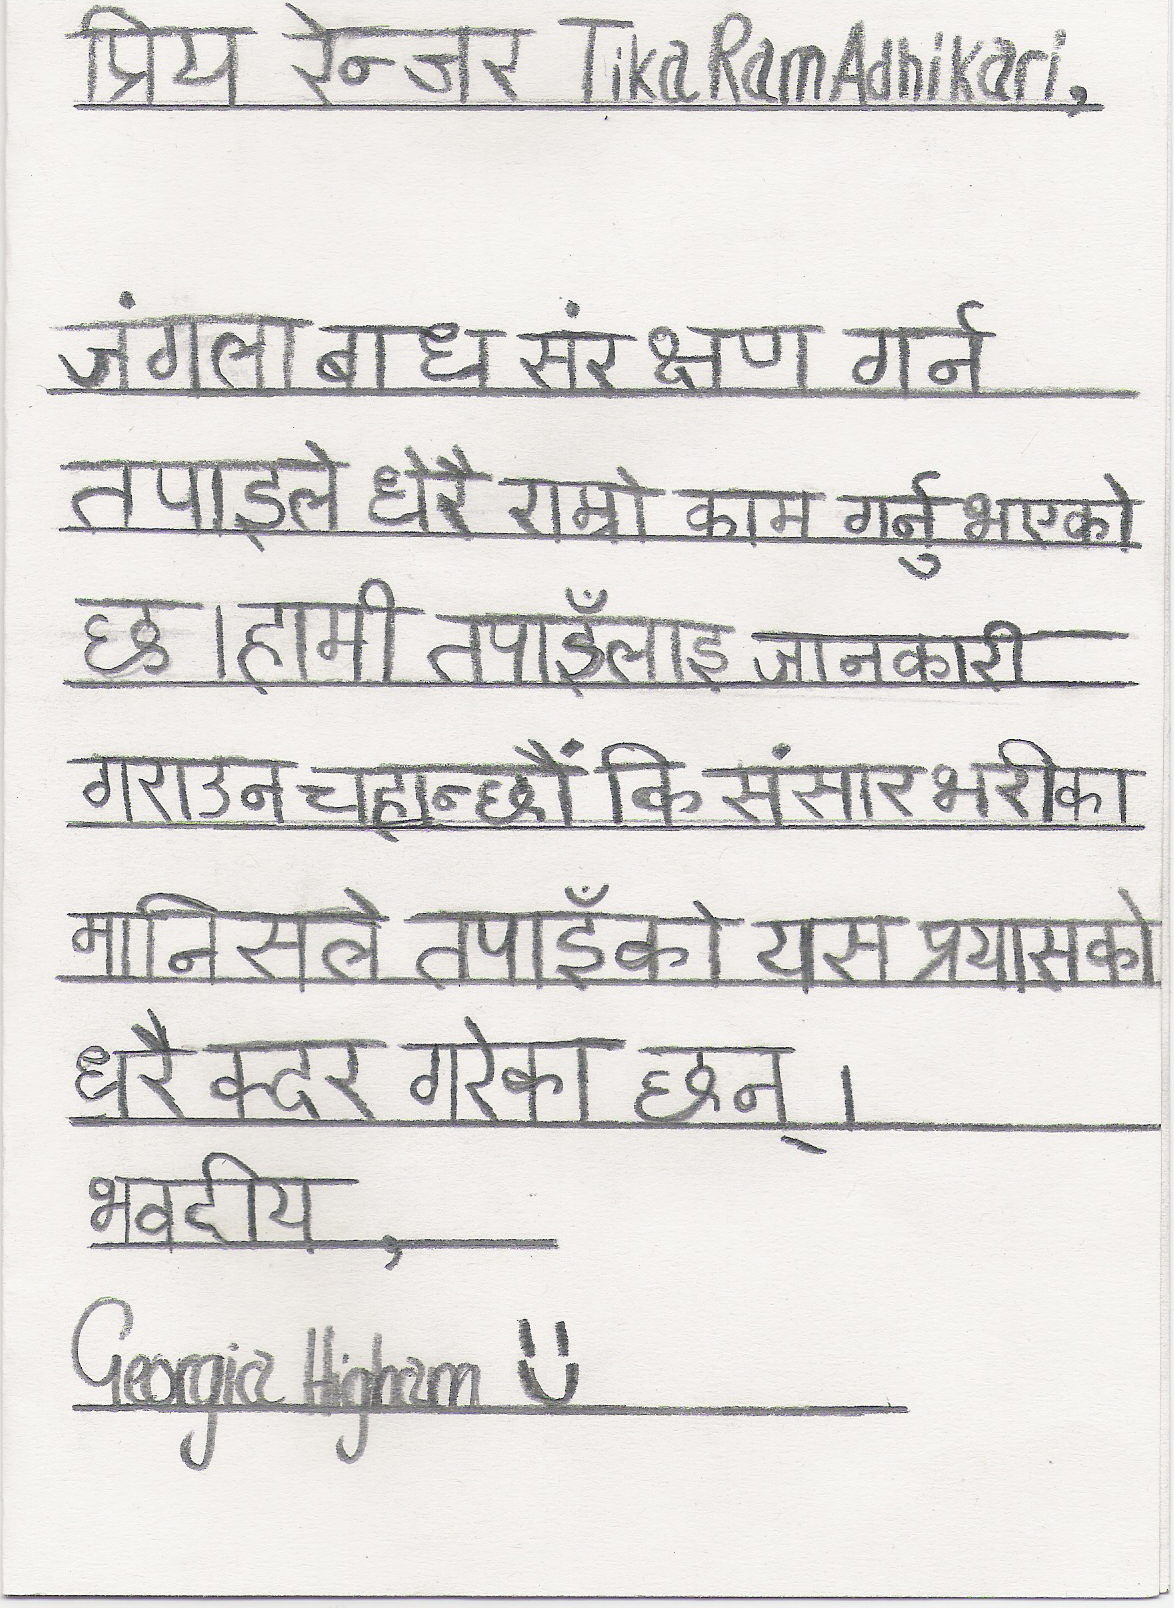text: (70, 1291, 486, 1478), (553, 5, 1070, 104), (401, 884, 743, 975), (66, 883, 393, 973), (428, 588, 738, 675), (279, 1, 540, 104), (59, 438, 353, 526), (298, 737, 586, 821), (55, 290, 303, 385), (910, 883, 1158, 978), (89, 1151, 333, 1238), (55, 1, 259, 104), (400, 1017, 603, 1116), (229, 578, 410, 678), (930, 739, 1139, 821), (701, 742, 923, 818), (749, 619, 1040, 675), (204, 1032, 380, 1115), (70, 750, 289, 815), (631, 1036, 796, 1119), (311, 318, 513, 385), (841, 295, 985, 385), (70, 1009, 190, 1114), (644, 315, 826, 383), (60, 588, 195, 675), (960, 474, 1140, 538), (841, 471, 945, 578), (505, 463, 666, 529), (746, 910, 905, 976), (366, 444, 486, 528), (513, 298, 626, 385), (593, 739, 703, 818), (671, 478, 821, 534)
